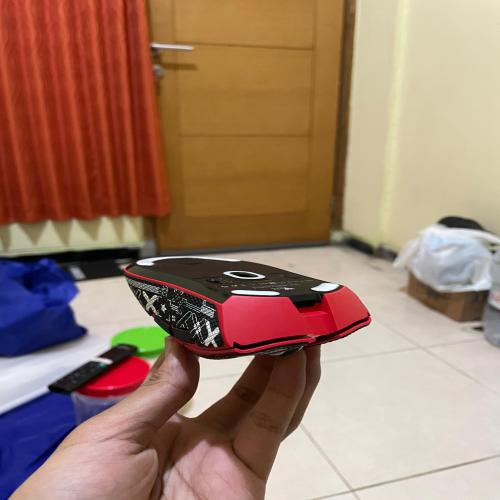Mouse: (106, 244, 386, 370)
